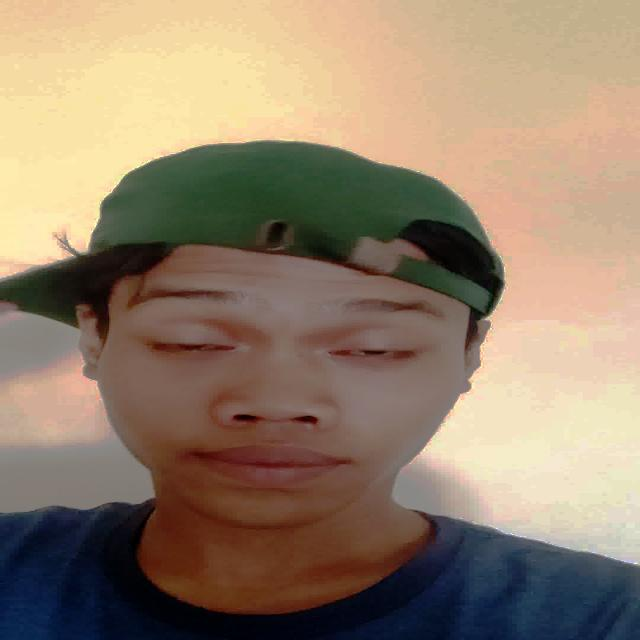TOPI: (10, 139, 526, 321)
